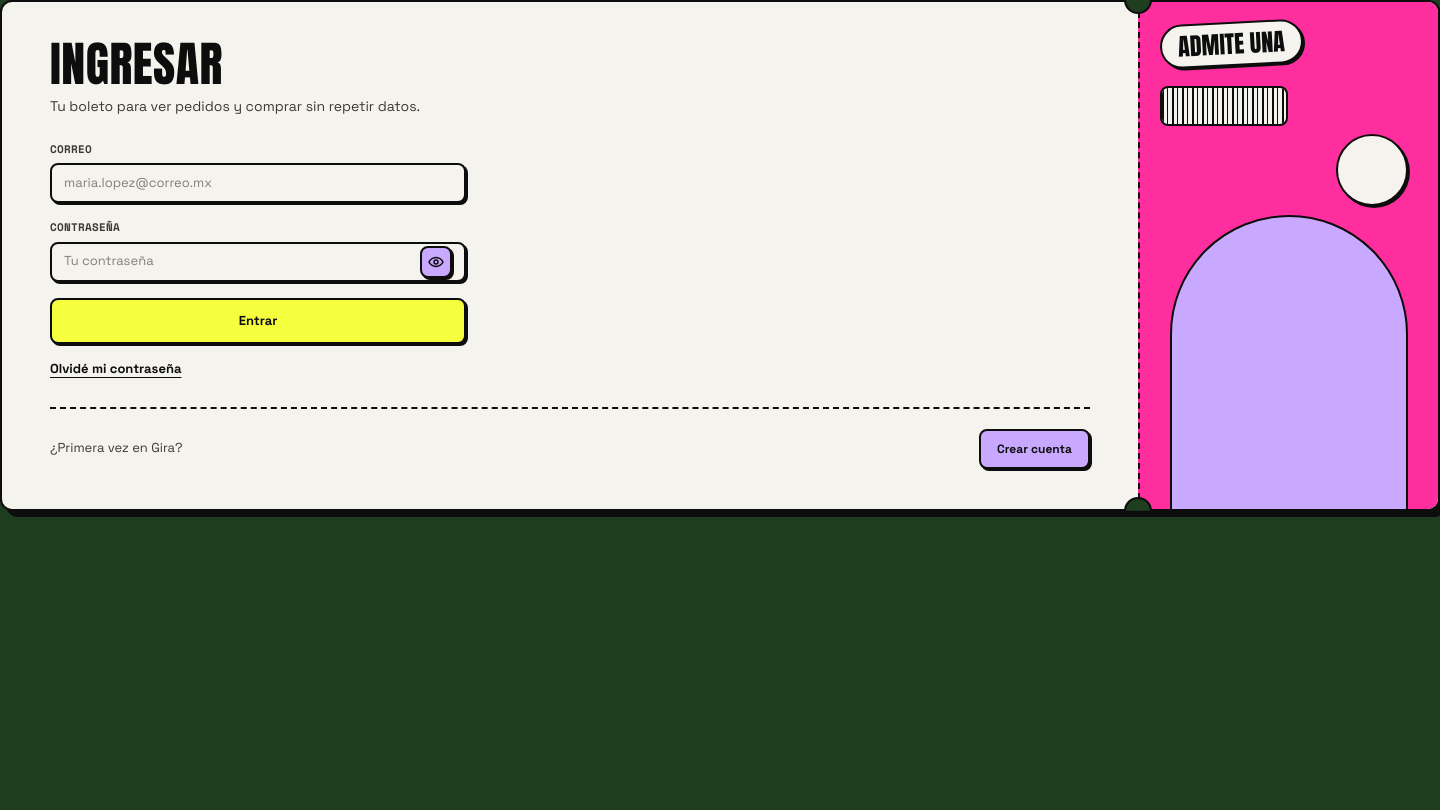
Scenario: CustomerLoginForm › credenciales incorrectas: muestra el mensaje del API y no navega
Type "maria@correo.mx" into the field labelled "Correo" at (258, 183), box [64, 174, 452, 192]
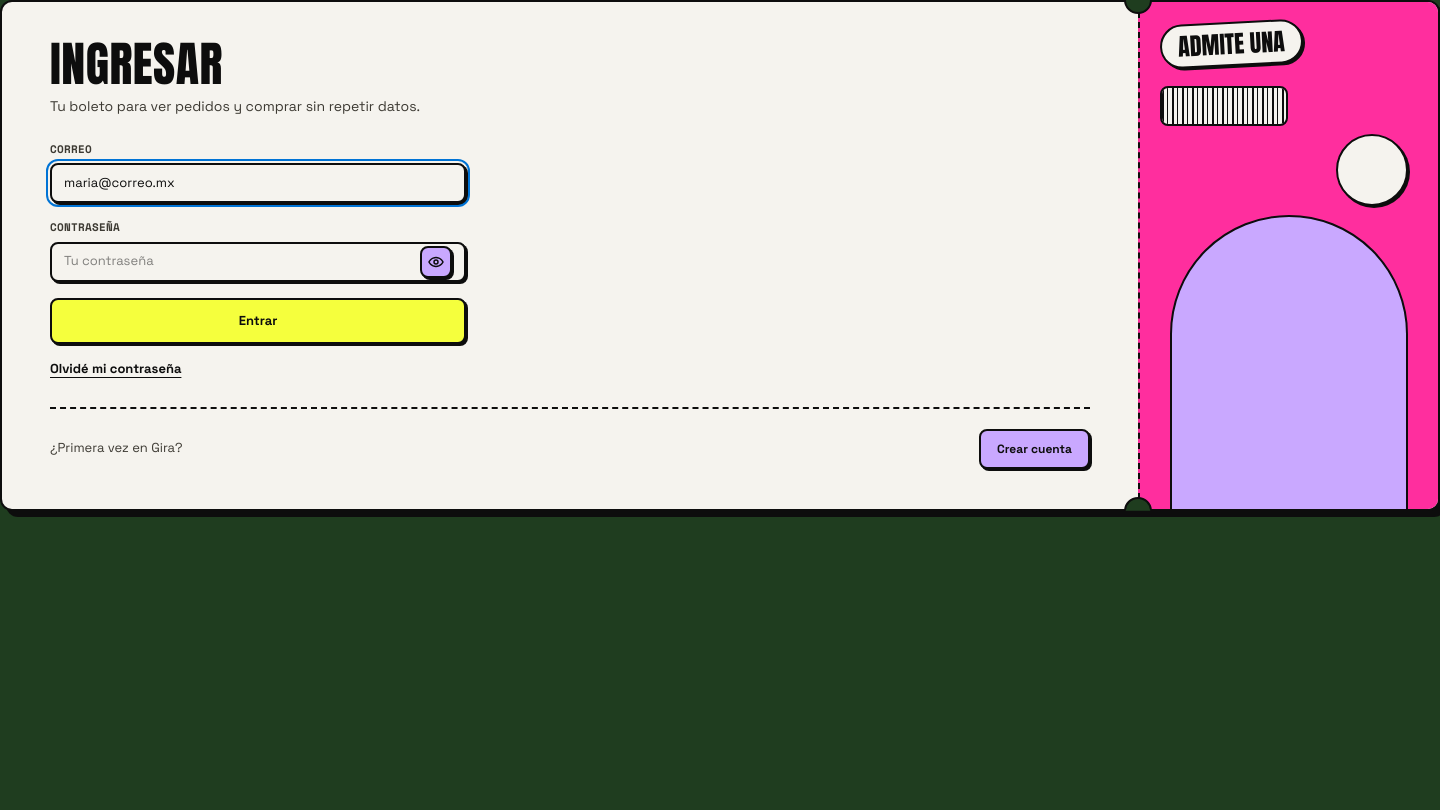
Type "Gira2026xyz" into the password field labelled "Contraseña" at (238, 262), box [64, 252, 412, 271]
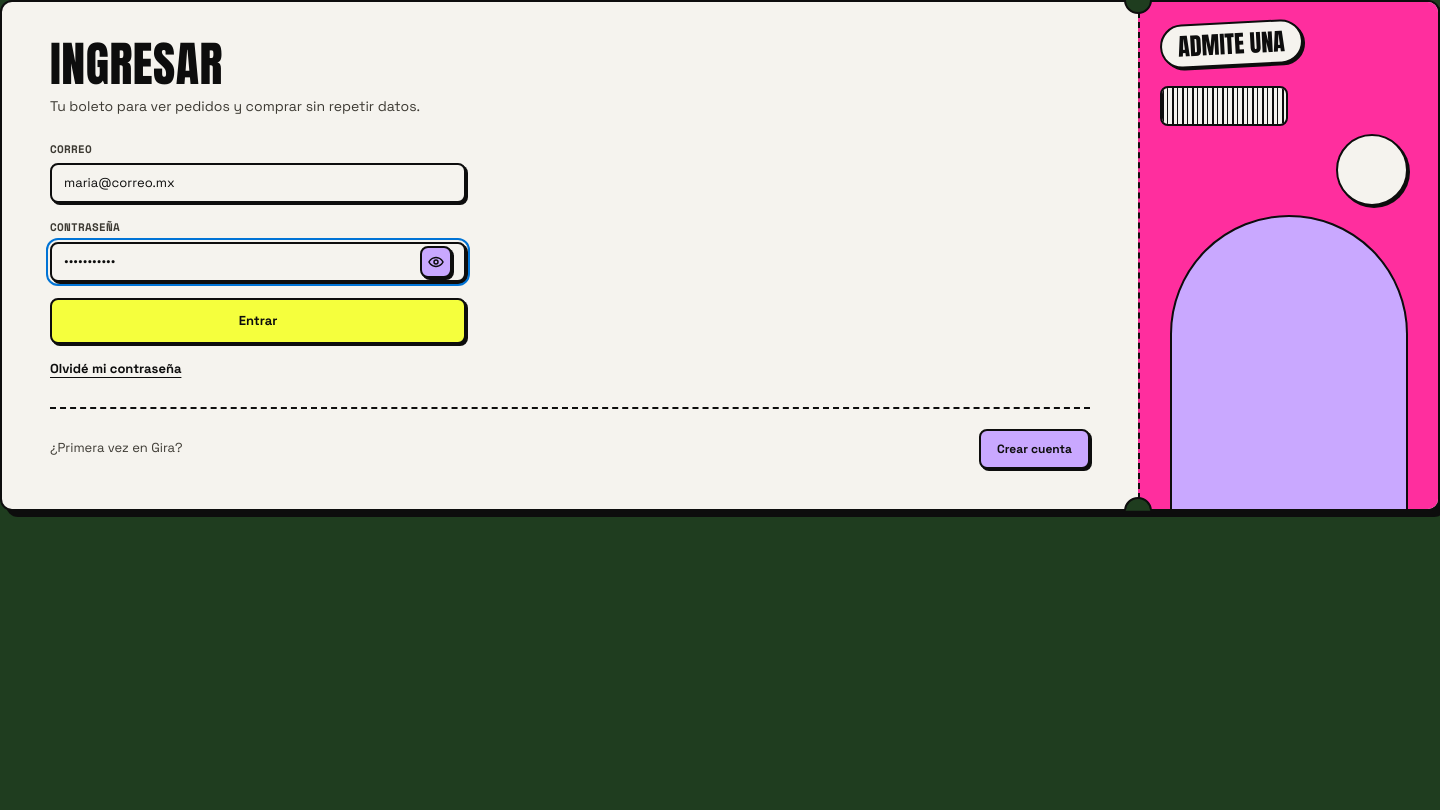
Click the button "Entrar" at (258, 321), box [50, 298, 466, 344]
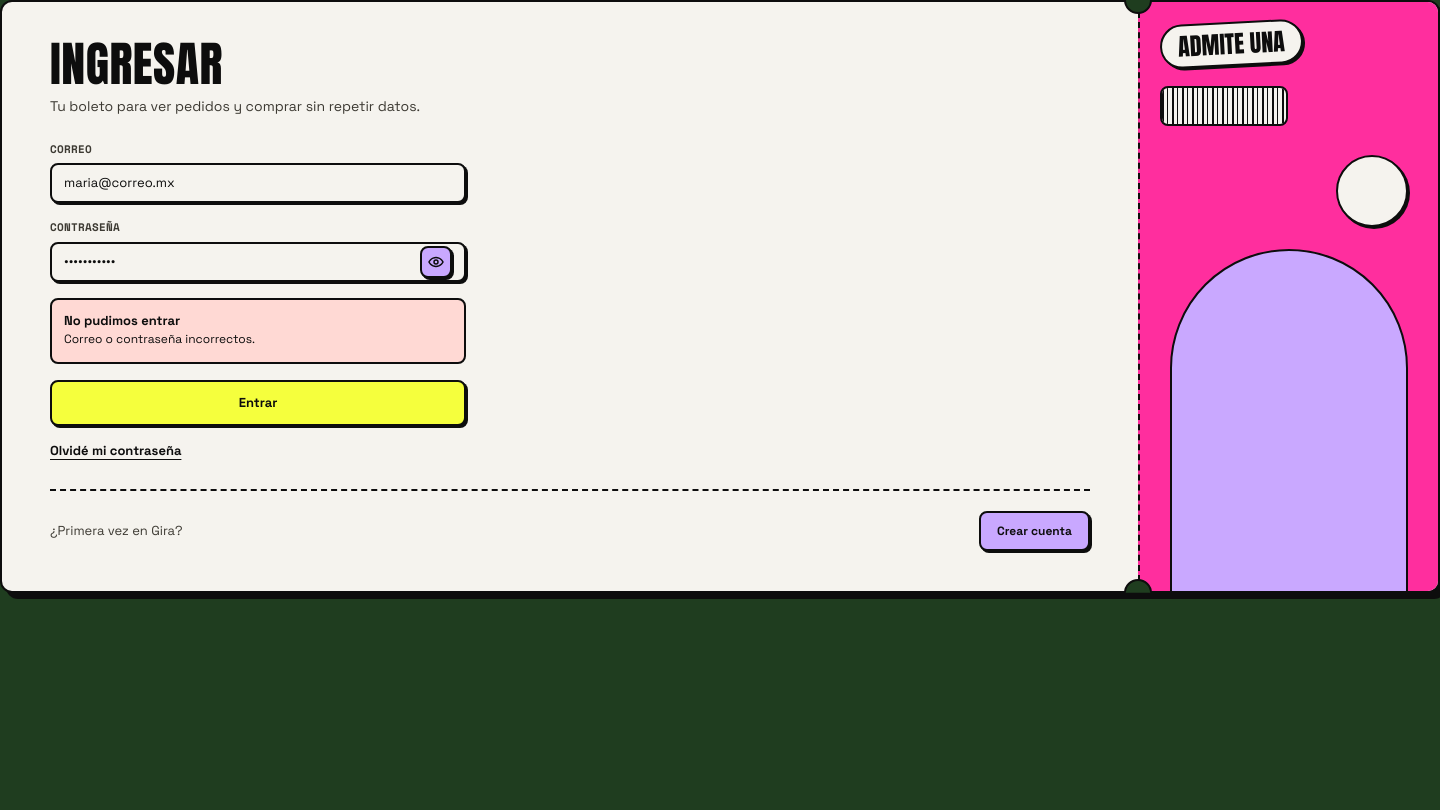
Expected: the message shows "Correo o contraseña incorrectos.", [64, 331, 255, 347]
